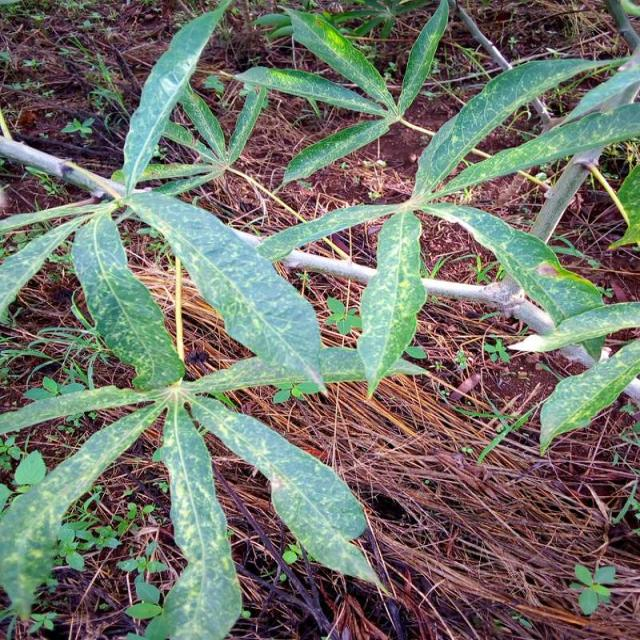cassava leaf: (185, 390, 392, 598), (123, 188, 326, 398), (0, 396, 165, 622), (412, 54, 630, 200), (418, 198, 604, 328), (149, 396, 242, 638), (120, 0, 231, 198), (70, 209, 186, 392), (356, 208, 427, 399), (538, 337, 638, 457)
